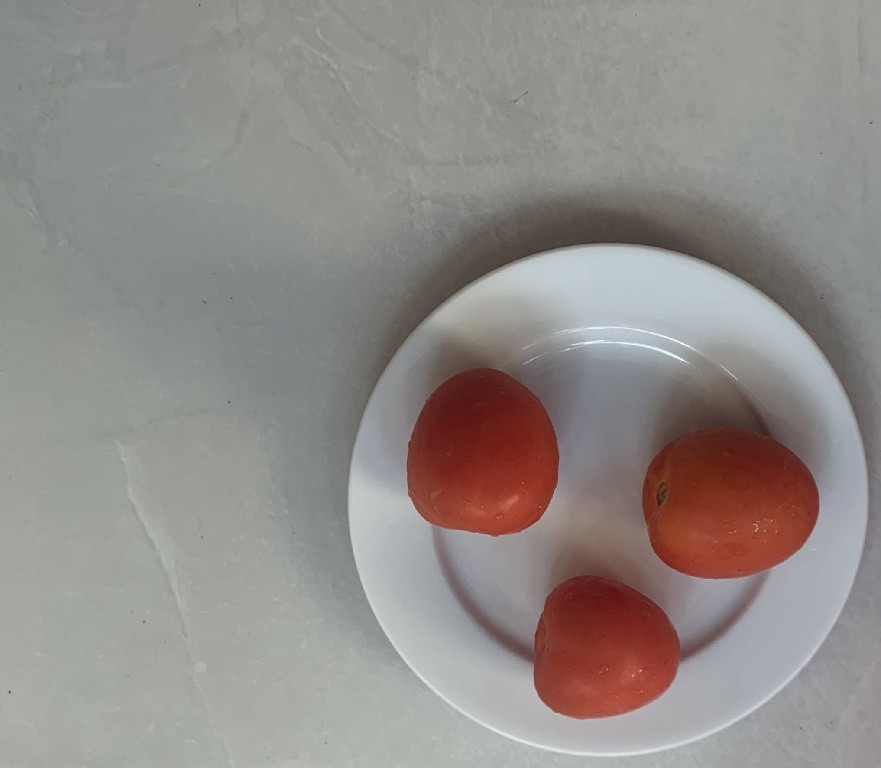OK: (632, 416, 829, 586), (398, 356, 564, 546), (517, 569, 687, 727)
